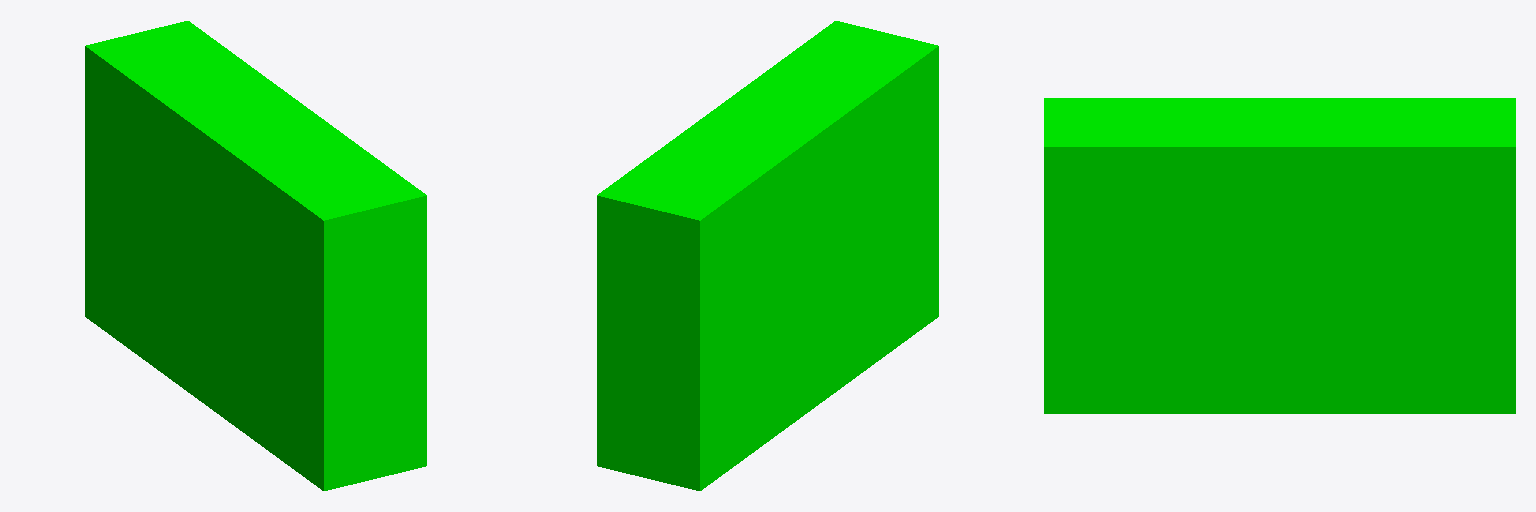
robot.urdf — medium_box:
<?xml version="1.0" ?>
<robot name="medium_box">
  <link name="base">
    <inertial>
      <mass value="0.1"/>
      <inertia ixx="0.00002" iyy="0.00002" izz="0.00002"/>
    </inertial>

    <visual>
      <geometry>
        <box size="0.02 0.08 0.05"/>
      </geometry>
      <material name="green">
        <color rgba="0 1 0 1"/>
      </material>
    </visual>

    <collision>
      <geometry>
        <box size="0.05 0.08 0.05"/>
      </geometry>
    </collision>
  </link>
</robot>

--- What the picture shows (computed from the rendered views, not written in the file) ---
3 views of the same robot in one strip: view 1: azimuth 30°, elevation 25°; view 2: azimuth 150°, elevation 25°; view 3: azimuth 270°, elevation 25° (orthographic).
Model medium_box with 1 links and 0 joints (none), rooted at base, posed every joint at zero.
Visible links, largest first — view 1: base; view 2: base; view 3: base.
Boxes of the visible links, bbox=[...] form: base: bbox=[85, 21, 426, 490]; base: bbox=[597, 21, 938, 490]; base: bbox=[1044, 98, 1515, 413].
Bounding box of the posed robot: 0.02 × 0.08 × 0.05 m (x, y, z).
Geometry: primitives only (box / cylinder / sphere), no mesh files.